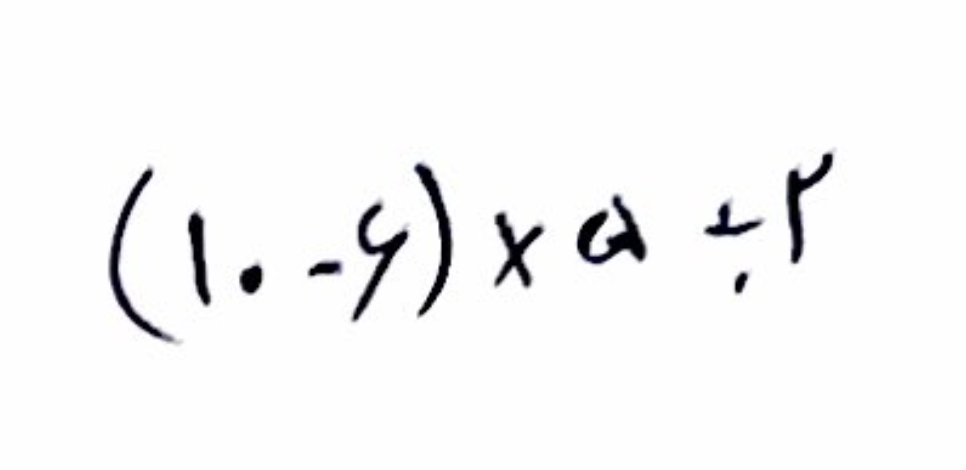character: (111, 167, 177, 346), (354, 201, 408, 324), (414, 160, 452, 319), (703, 203, 768, 292), (786, 151, 834, 263), (578, 192, 647, 265), (494, 212, 545, 289), (187, 210, 216, 305), (238, 262, 266, 294), (307, 262, 344, 274)
